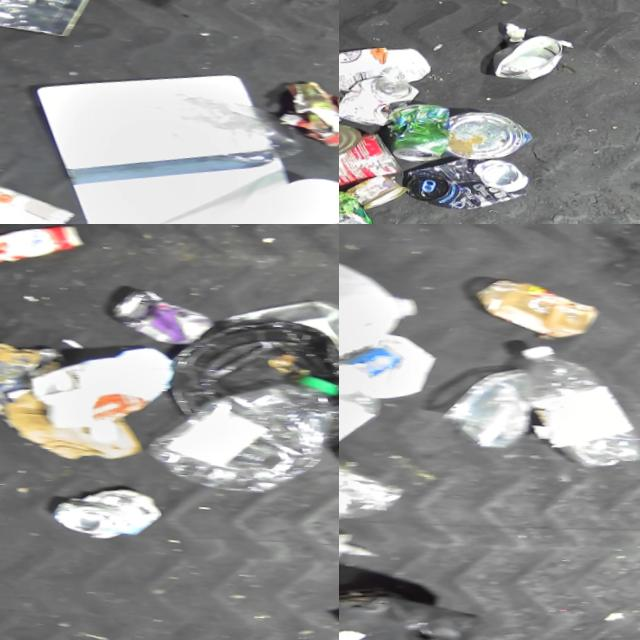can: (397, 151, 527, 222), (37, 482, 167, 550), (99, 281, 215, 355), (439, 109, 532, 171), (339, 73, 418, 136), (339, 124, 400, 205), (378, 104, 450, 171), (487, 34, 566, 91), (0, 0, 94, 47), (0, 176, 77, 224), (339, 172, 403, 217), (339, 190, 379, 224)
milk_jug: (339, 232, 424, 382)
non_white_jug: (339, 567, 484, 640)
plastic_bottle: (130, 357, 339, 513), (501, 342, 640, 482), (339, 330, 408, 492)
